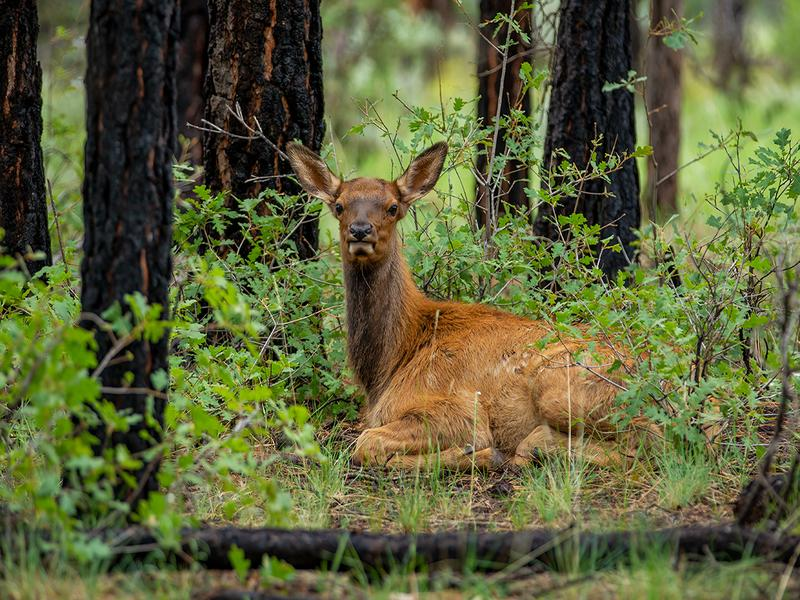elk: (280, 141, 672, 475)
